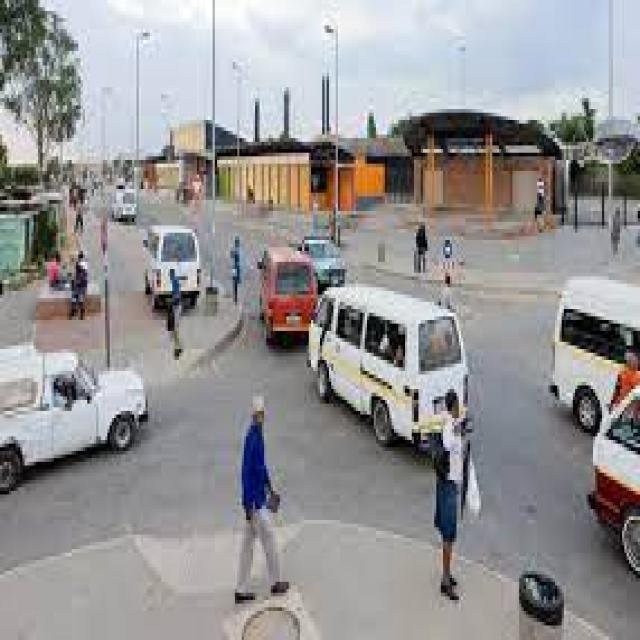MiniBus taxi: (313, 284, 472, 454), (260, 244, 320, 352), (146, 222, 203, 320)
Pedestrians: (233, 396, 291, 604), (436, 389, 481, 600)
